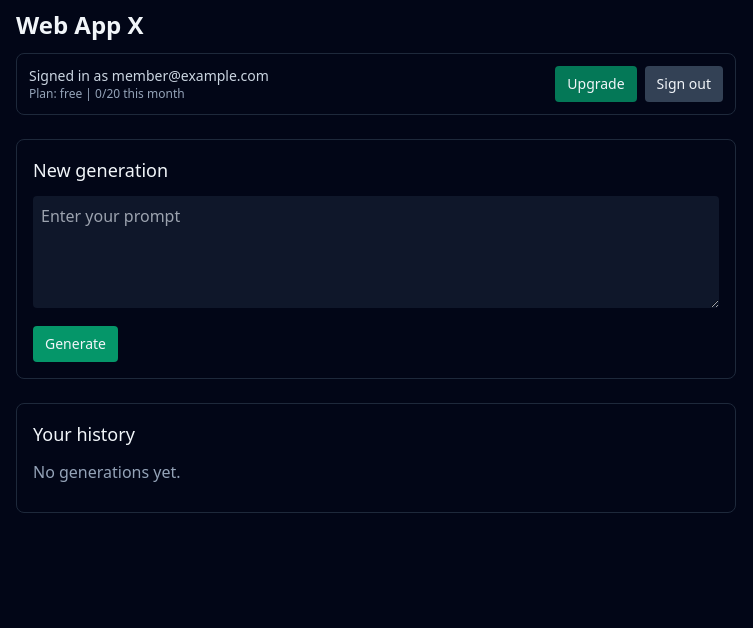
Test case: App › submits prompt and updates then deletes history item
Check: the text "Signed in as member@example.com" is shown, box [29,66,269,86]
Step 1. Type "Explain observability" into the text box with placeholder "Enter your prompt" → point(376, 252), box [33,196,719,308]
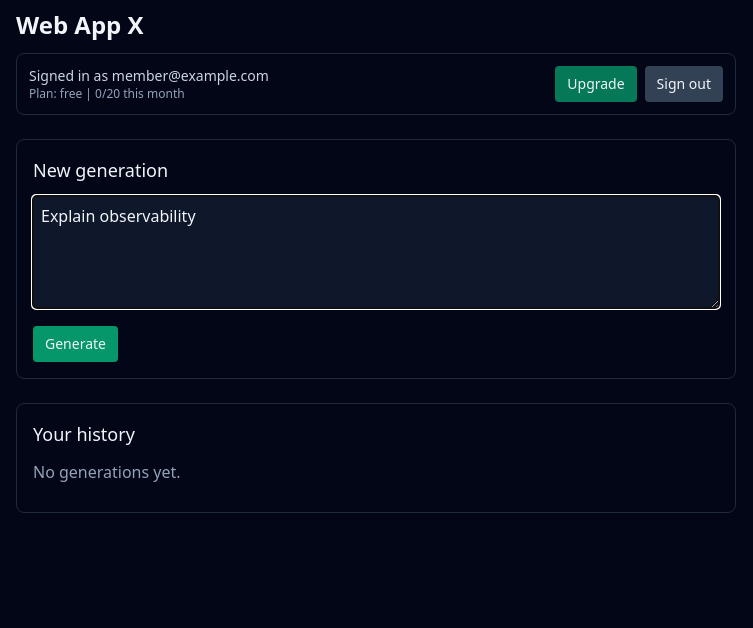
Step 2. Click the button "Generate" → point(76, 344), box [33,326,118,362]
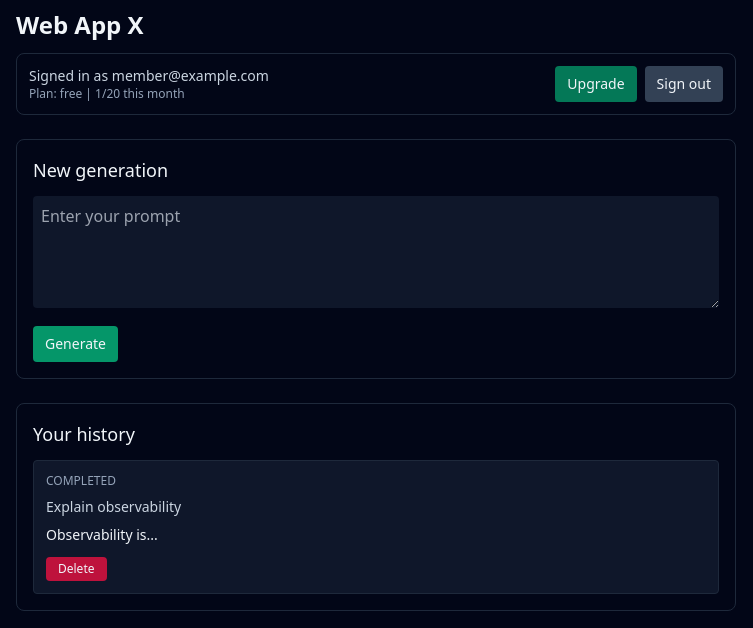
Check: the text "Observability is..." is shown, box [46,525,158,544]
Step 3. Click the button "Delete" → point(76, 569), box [46,557,106,581]
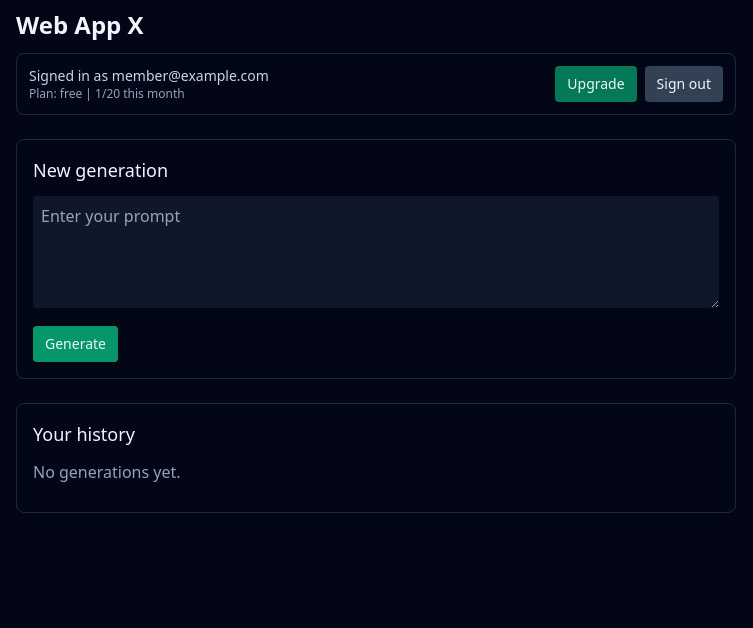
Check: the text "Observability is..." is gone
